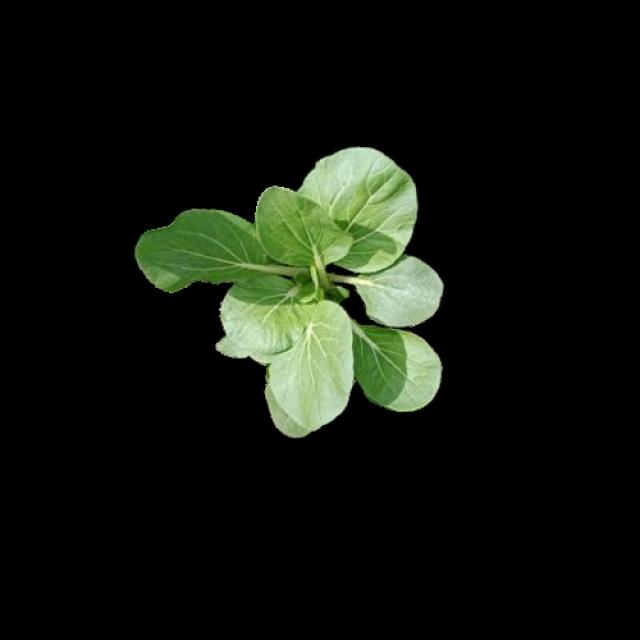healthy: (134, 144, 443, 436)
not-mature: (137, 147, 445, 439)
